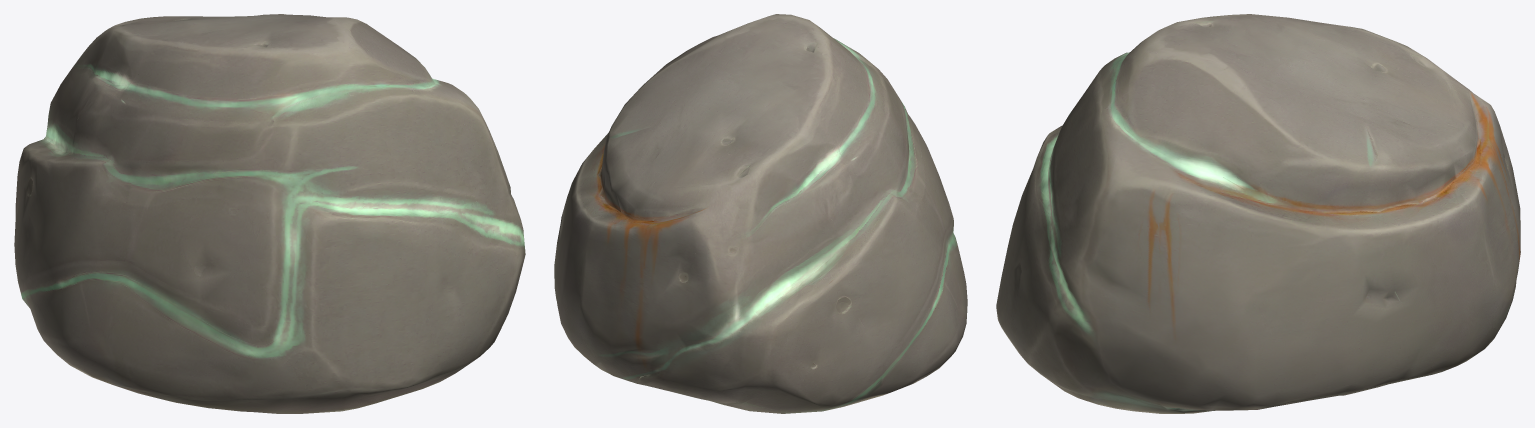
3 views of the same model, side by side, from view 1: azimuth 30°, elevation 25°; view 2: azimuth 150°, elevation 25°; view 3: azimuth 270°, elevation 25° (orthographic). The views are drawn at different scales.
Size of the model in its own units: 1.82 by 1.32 by 2.
1 material, 1 textured.
